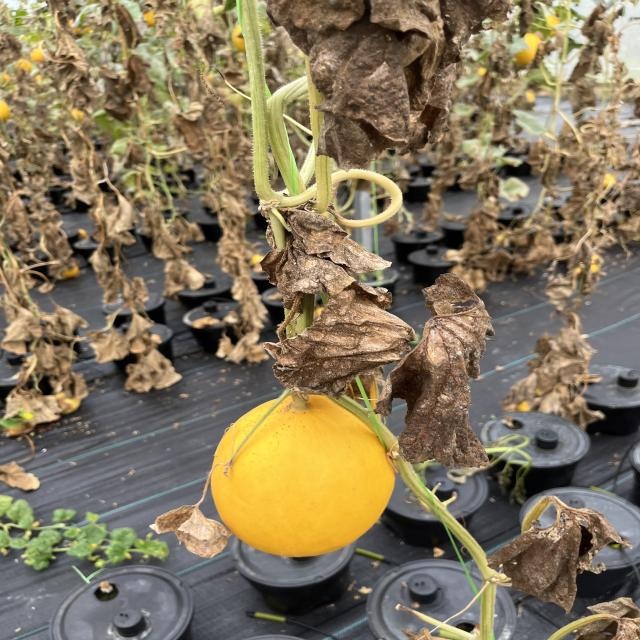bacterial wilt: (272, 0, 516, 170), (260, 199, 410, 416), (391, 274, 511, 475), (489, 492, 621, 612)
